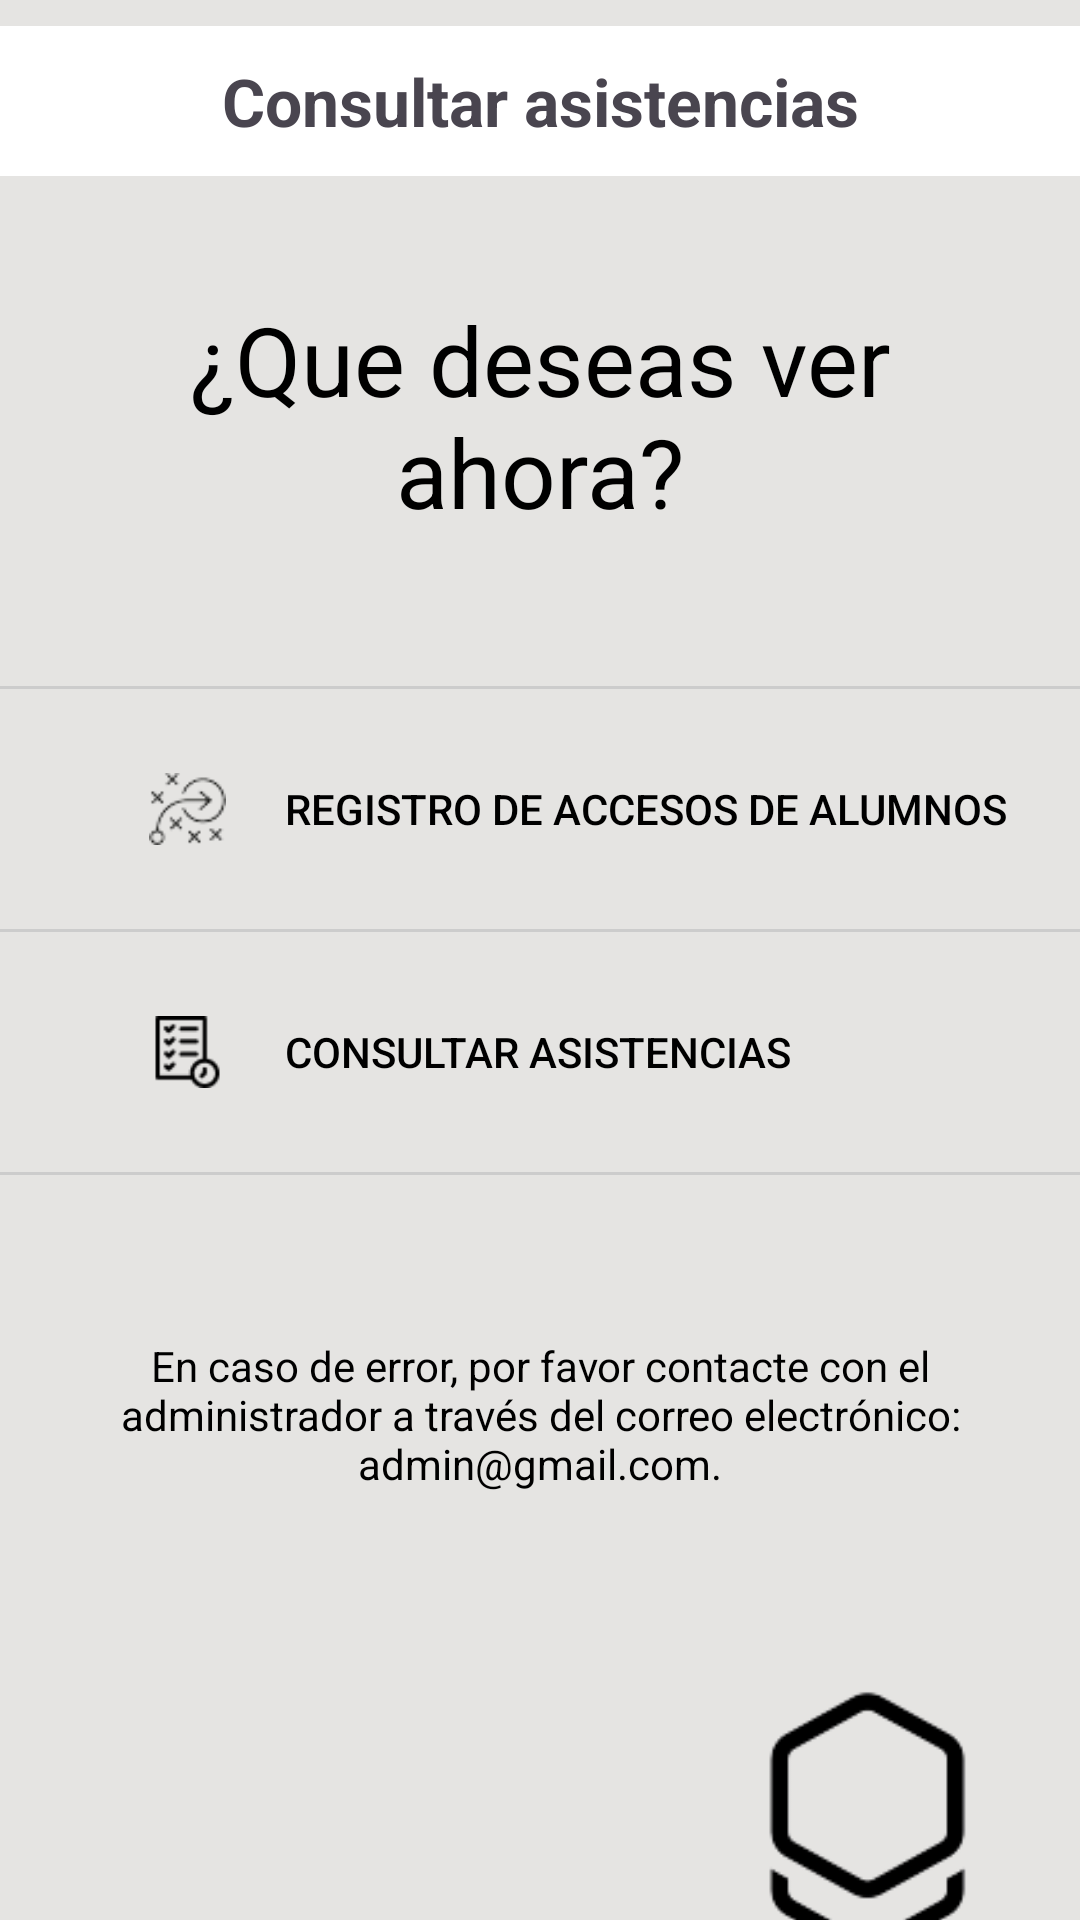

Screen size 1080*1920. Icon name, then its center in pixels as point (x, y):
consultaasistencia: point (187, 1052)
